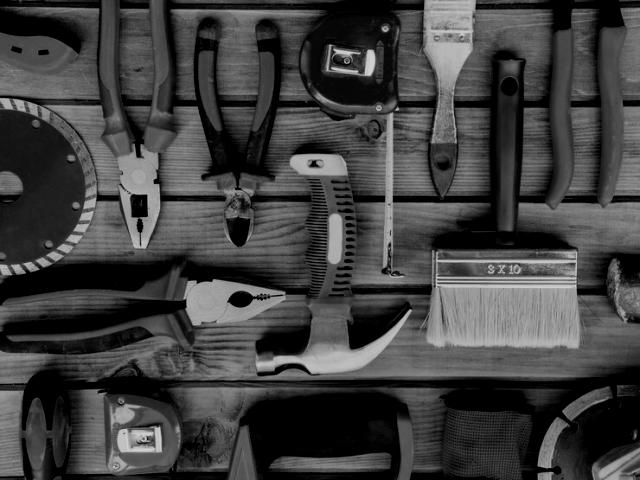Cutting pliers: (194, 21, 280, 248)
Hammer: (255, 154, 411, 376)
Pliers: (0, 259, 285, 354), (98, 1, 178, 249)
Screwdriver: (19, 372, 70, 480)
Tape measure: (300, 11, 402, 277), (104, 392, 182, 475)
